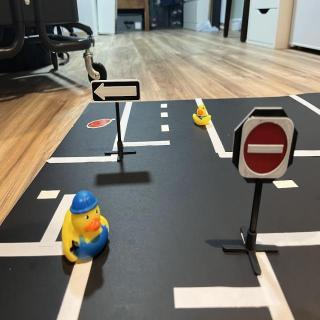duck_regular: (192, 104, 214, 129)
duck_specialty: (61, 192, 111, 268)
sign_noentry: (238, 119, 298, 181)
sign_oneway_left: (93, 81, 141, 103)
